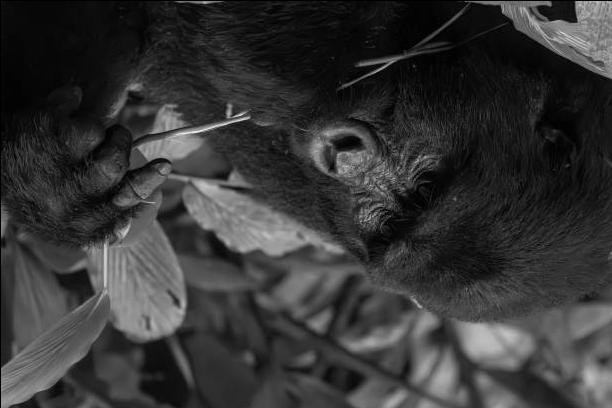goriile_montagne: (14, 0, 612, 311)
